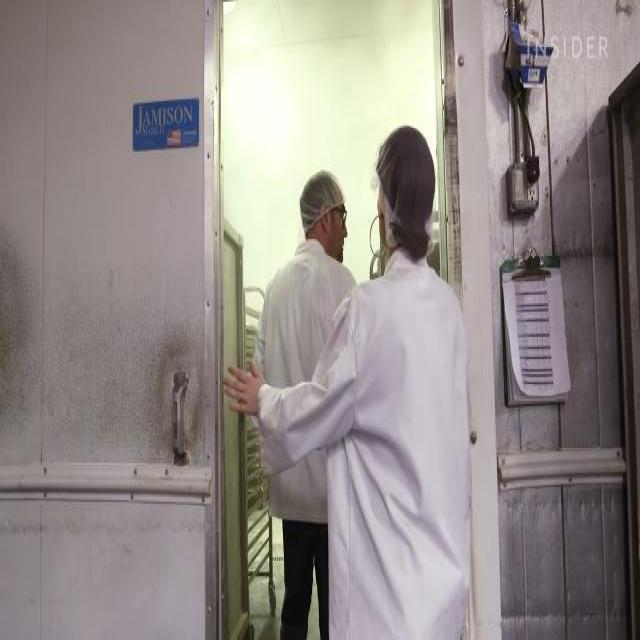bare_hand: (215, 354, 275, 426)
